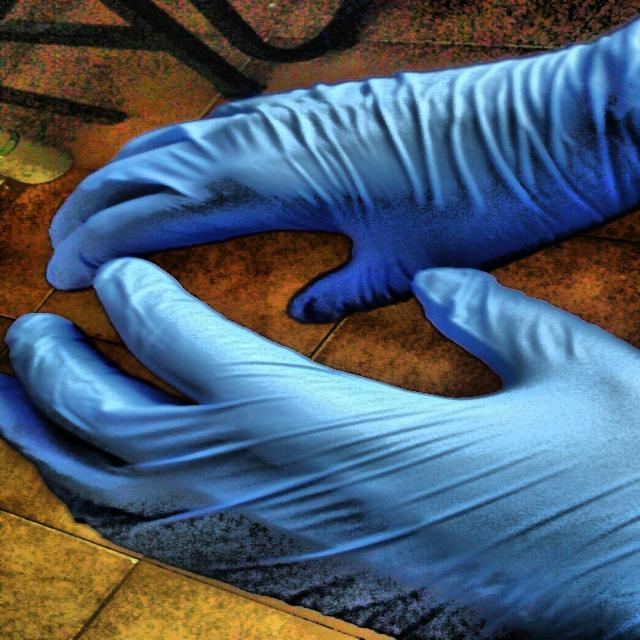gloved: (4, 256, 638, 640), (39, 16, 640, 326)
